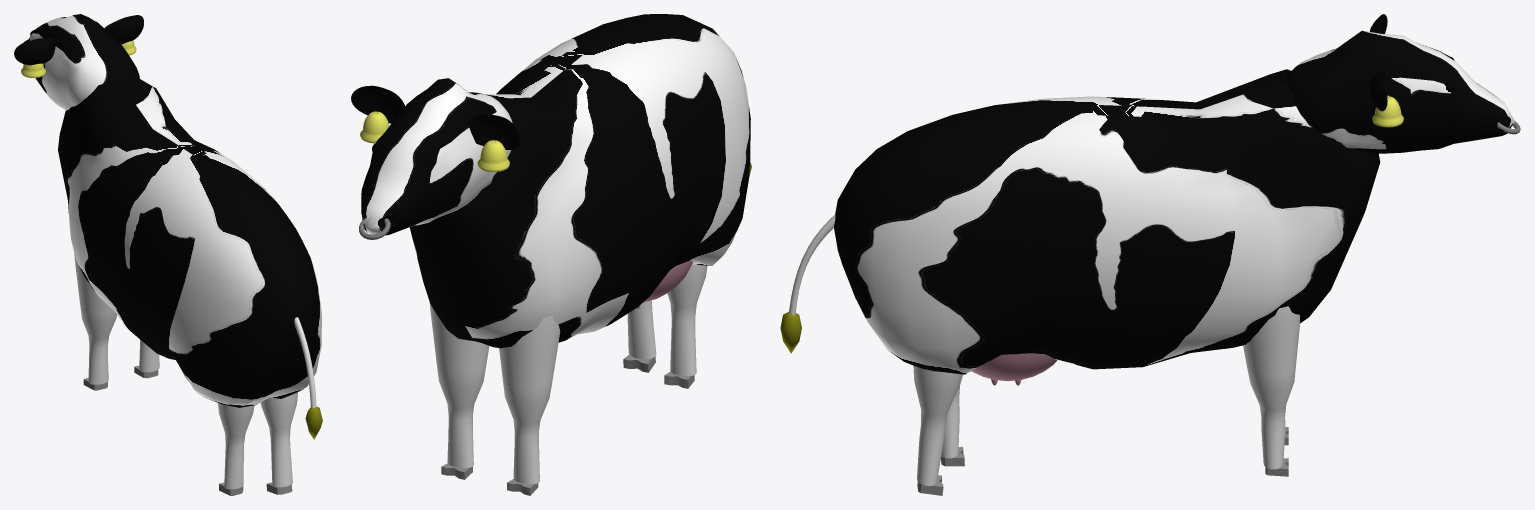
The model's file is usi0117NotHis.fbx.
The picture shows the model from 3 angles, left to right: view 1: azimuth 30°, elevation 25°; view 2: azimuth 150°, elevation 25°; view 3: azimuth 270°, elevation 25°; orthographic projection. The views are drawn at different scales.
Parts seen in each view (by area): view 1: pCube15; view 2: pCube15; view 3: pCube15.
Part boxes in pixels (x1,y1,x2,y2): pCube15: [14, 14, 322, 495]; pCube15: [351, 14, 751, 495]; pCube15: [780, 14, 1520, 495].
Size of the model in its own units: 4.99 by 12.57 by 18.91.
9 materials, 1 textured.
